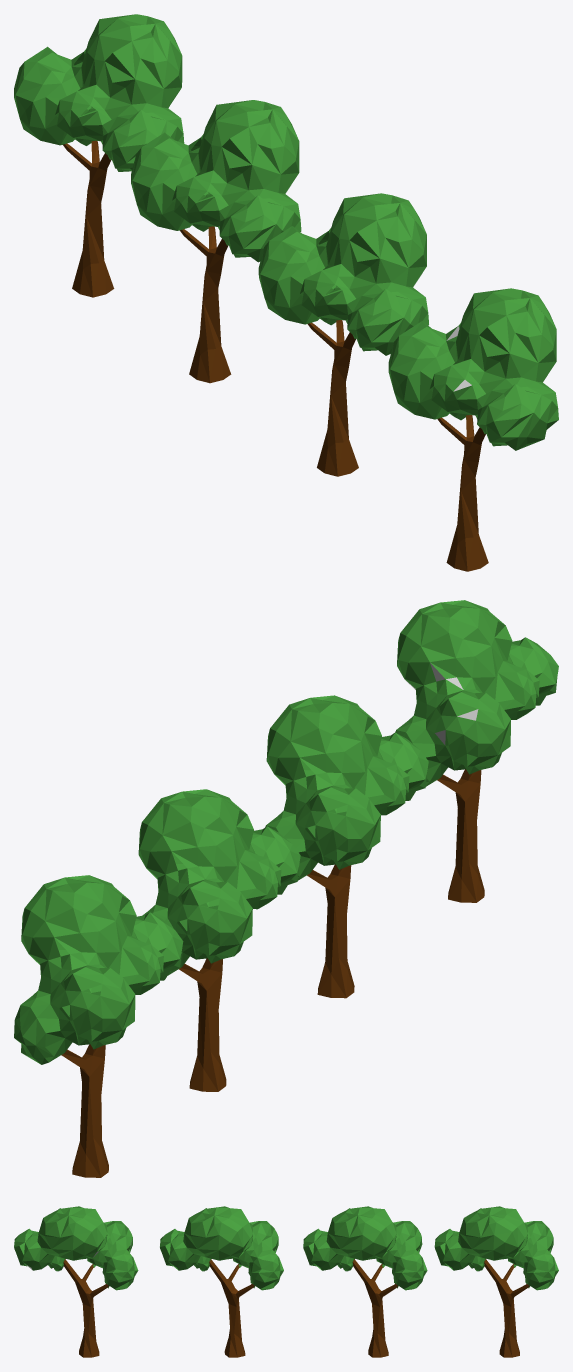
File: arbre3.fbx
3 renders of one model, top to bottom at view 1: azimuth 30°, elevation 25°; view 2: azimuth 150°, elevation 25°; view 3: azimuth 270°, elevation 25°, orthographic. The views are drawn at different scales.
Visible parts, largest first — view 1: _3_tree__3_tree_0.658, _3_tree__3_tree_0.001, _3_tree__3_tree_0.002, _3_tree__3_tree_0.003; view 2: _3_tree__3_tree_0.003, _3_tree__3_tree_0.001, _3_tree__3_tree_0.658, _3_tree__3_tree_0.002; view 3: _3_tree__3_tree_0.003, _3_tree__3_tree_0.002, _3_tree__3_tree_0.001, _3_tree__3_tree_0.658.
Part boxes in pixels (x1=…): _3_tree__3_tree_0.658: x1=388, y1=288, x2=558, y2=571; _3_tree__3_tree_0.001: x1=258, y1=193, x2=428, y2=476; _3_tree__3_tree_0.002: x1=131, y1=100, x2=301, y2=383; _3_tree__3_tree_0.003: x1=14, y1=14, x2=184, y2=297; _3_tree__3_tree_0.003: x1=14, y1=875, x2=183, y2=1177; _3_tree__3_tree_0.001: x1=265, y1=695, x2=428, y2=998; _3_tree__3_tree_0.658: x1=395, y1=600, x2=558, y2=902; _3_tree__3_tree_0.002: x1=138, y1=789, x2=300, y2=1091; _3_tree__3_tree_0.003: x1=434, y1=1206, x2=558, y2=1357; _3_tree__3_tree_0.002: x1=303, y1=1206, x2=427, y2=1357; _3_tree__3_tree_0.001: x1=160, y1=1206, x2=283, y2=1357; _3_tree__3_tree_0.658: x1=14, y1=1206, x2=138, y2=1357.
Size of the model in its own units: 221 by 435 by 1421.
